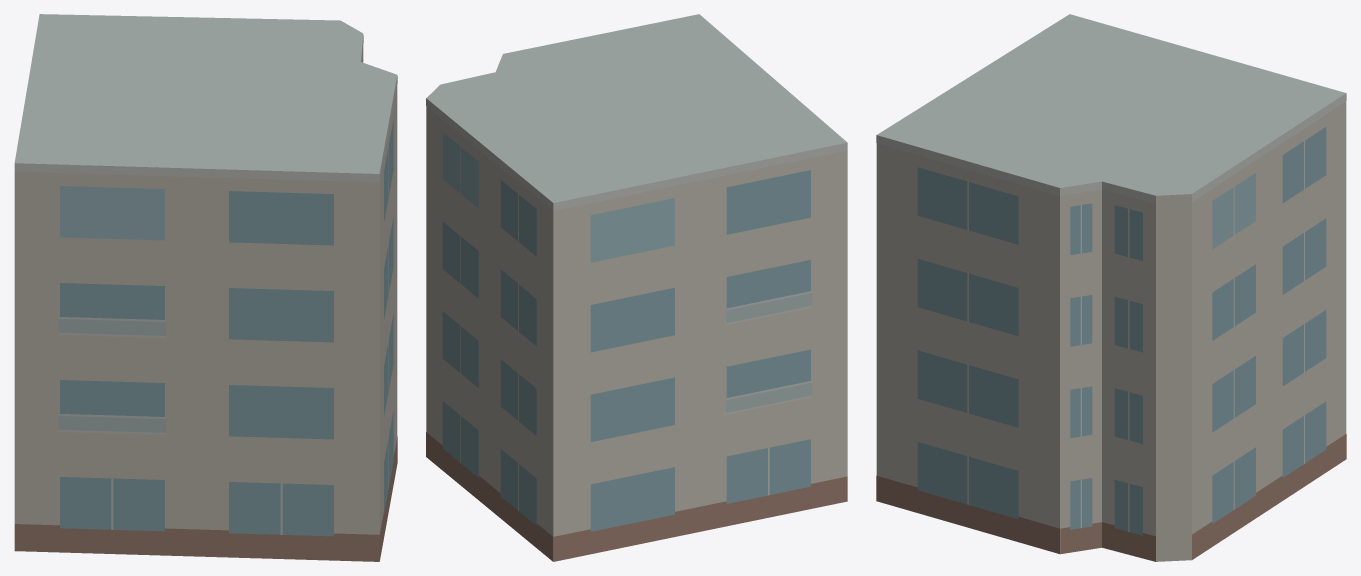
File: survey-upis-32723674.glb
The picture shows the model from 3 angles, left to right: view 1: azimuth 30°, elevation 25°; view 2: azimuth 150°, elevation 25°; view 3: azimuth 270°, elevation 25°; orthographic projection. The views are drawn at different scales.
Parts seen in each view (by area): view 1: survey-upis-32723674.tmp; view 2: survey-upis-32723674.tmp; view 3: survey-upis-32723674.tmp.
Boxes of the visible parts, x1,y1,x2,y2 form: survey-upis-32723674.tmp: [14, 14, 397, 561]; survey-upis-32723674.tmp: [426, 14, 847, 561]; survey-upis-32723674.tmp: [876, 14, 1346, 561].
Size of the model in its own units: 11.93 by 11.2 by 13.04.
